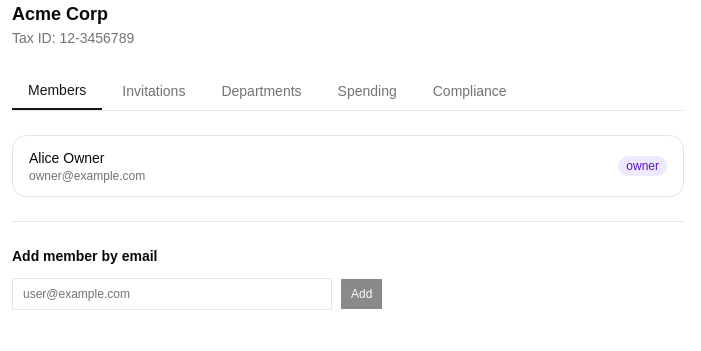
Scenario: CompanyPage › shows invitations tab for owner
The image size is (701, 351).
Step 1. Click the button "invitations" → (154, 91), box [106, 72, 201, 110]
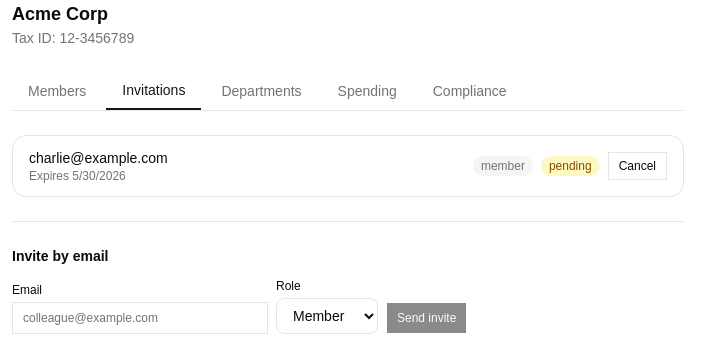
Now the text "charlie@example.com" is shown, box [29, 148, 168, 168]
